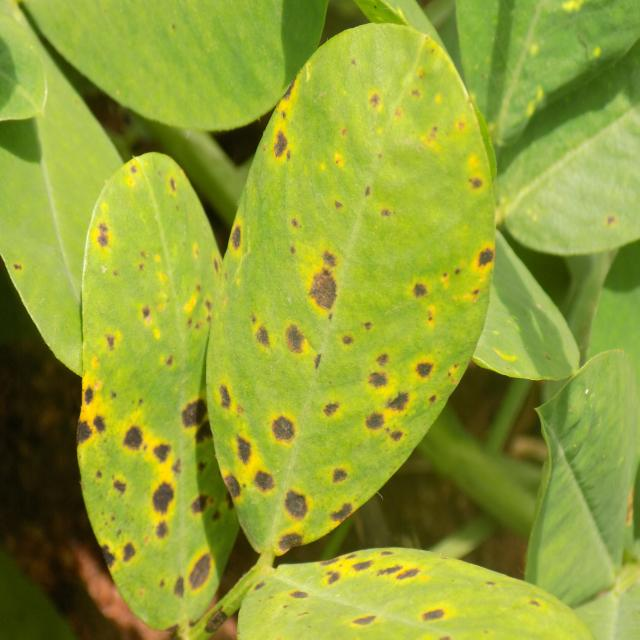Ground nut_tikka leaf spot: (206, 27, 496, 563), (81, 152, 246, 624)
